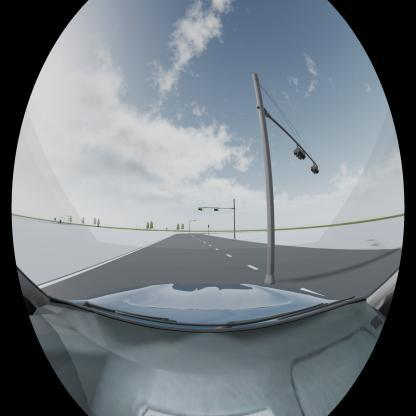Green Light: (198, 208, 204, 212), (214, 208, 219, 212)
